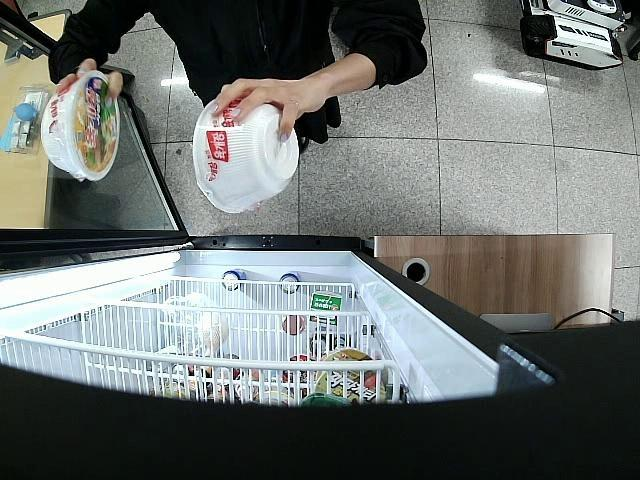09_yukGaeJang: (192, 95, 300, 216), (41, 68, 120, 184)
